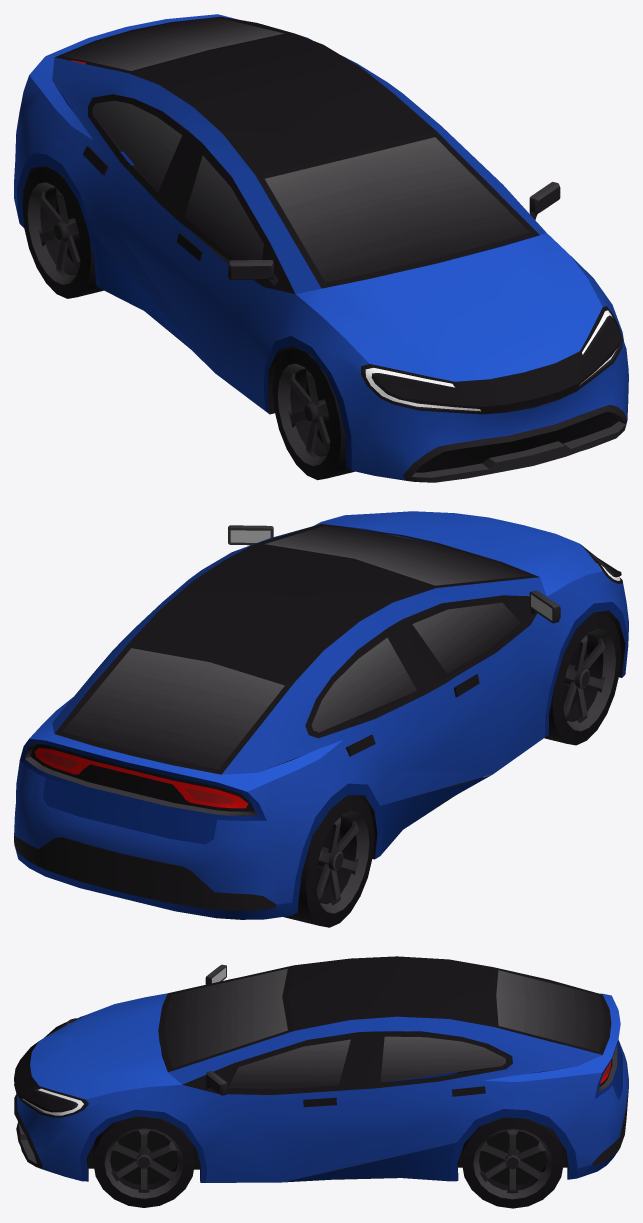
The model's file is Car1.glb.
3 renders of one model, top to bottom at view 1: azimuth 30°, elevation 25°; view 2: azimuth 150°, elevation 25°; view 3: azimuth 270°, elevation 25°, orthographic. The views are drawn at different scales.
Visible parts, largest first — view 1: unityexport_ColorVar4_Material_0.002; view 2: unityexport_ColorVar4_Material_0.002; view 3: unityexport_ColorVar4_Material_0.002.
Boxes of the visible parts, x1,y1,x2,y2 form: unityexport_ColorVar4_Material_0.002: (14,14,628,482); unityexport_ColorVar4_Material_0.002: (14,511,628,927); unityexport_ColorVar4_Material_0.002: (14,956,628,1208).
Size of the model in its own units: 21.17 by 14.07 by 45.91.
3 materials, 3 textured.
